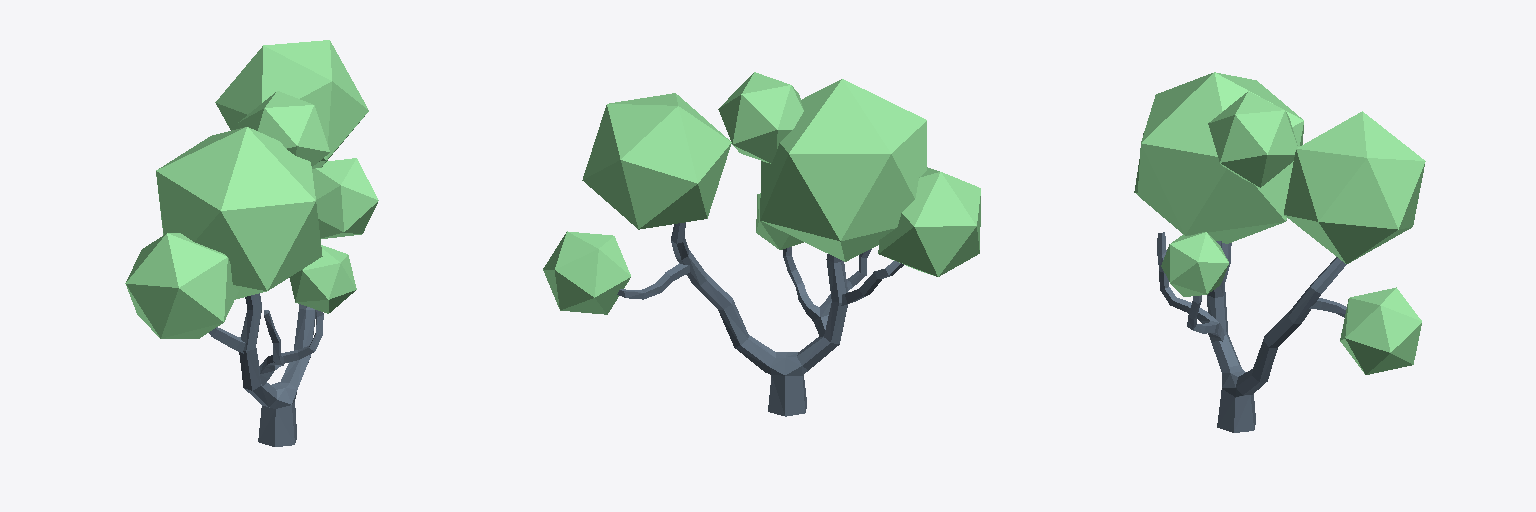
3 renders of one model, left to right at view 1: azimuth 30°, elevation 25°; view 2: azimuth 150°, elevation 25°; view 3: azimuth 270°, elevation 25°, orthographic.
Parts seen in each view (by area): view 1: Lowpoly_tree_sample1:Lowpoly_tree_sample:Default; view 2: Lowpoly_tree_sample1:Lowpoly_tree_sample:Default; view 3: Lowpoly_tree_sample1:Lowpoly_tree_sample:Default.
Boxes of the visible parts, box(x1,y1,x2,y2) form: Lowpoly_tree_sample1:Lowpoly_tree_sample:Default: box(125, 40, 378, 446); Lowpoly_tree_sample1:Lowpoly_tree_sample:Default: box(543, 72, 980, 416); Lowpoly_tree_sample1:Lowpoly_tree_sample:Default: box(1134, 72, 1425, 432).
Size of the model in its own units: 4.55 by 4.32 by 3.38.
Materials: 2 (2 with a texture image).